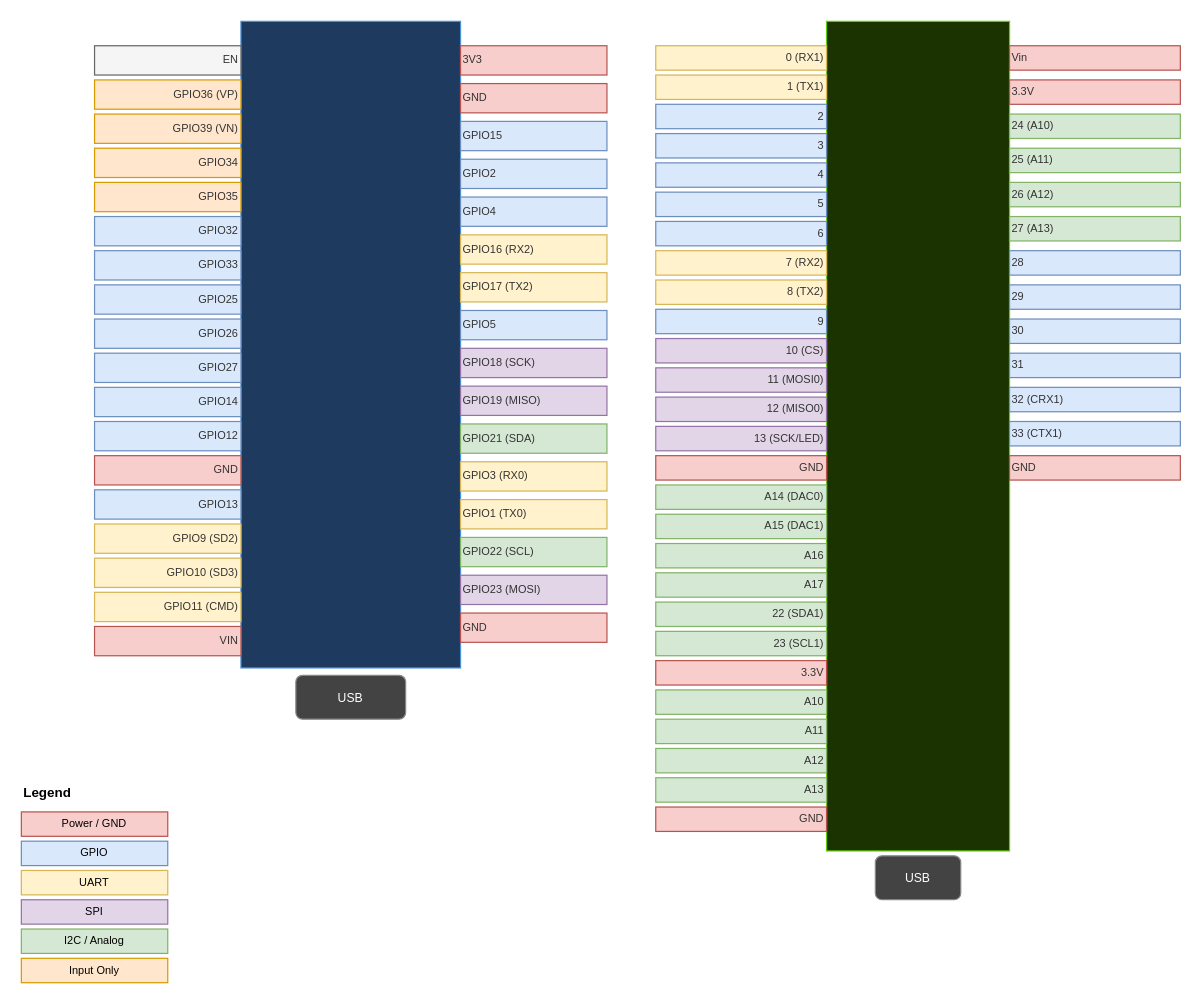
This 1202x1004 diagram has some shape labels left out. Here are the shapes that lost their labels. From the top down, the centre of each, then its label:
At [350,344]: "ESP32 DevKit V1".
At [917,435]: "Teensy 4.1".
